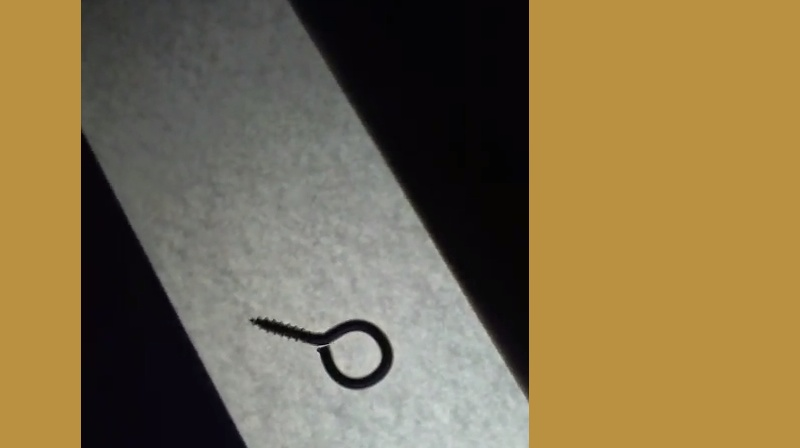O001: (246, 309, 394, 391)
